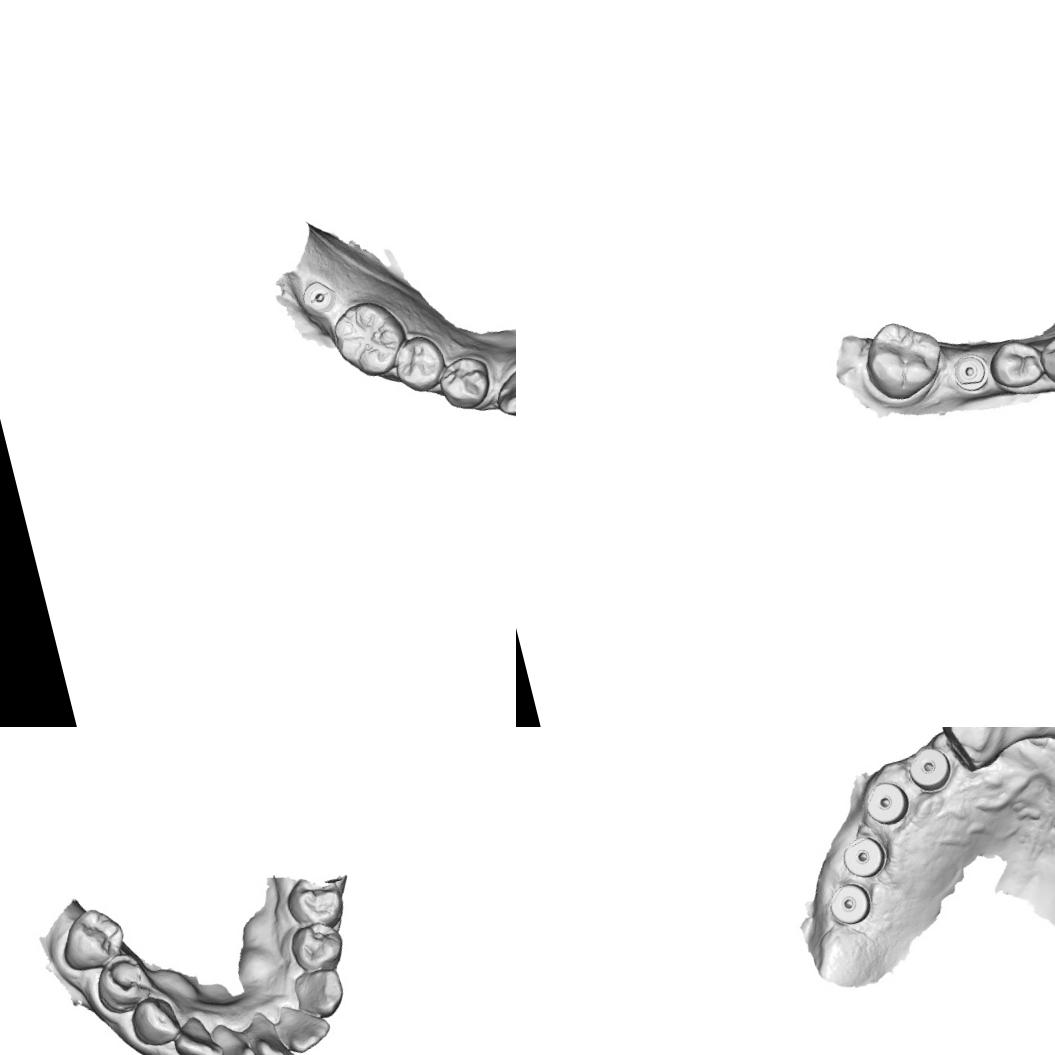canine: (937, 727, 1020, 777), (287, 962, 352, 1022), (124, 992, 182, 1050), (487, 366, 516, 422)
implant: (822, 873, 877, 930), (860, 775, 910, 824), (904, 742, 951, 789), (947, 349, 992, 395), (840, 833, 883, 878)
implant_minus: (298, 274, 340, 318)
incisor: (279, 999, 335, 1055), (244, 1010, 300, 1055), (166, 1013, 221, 1055), (994, 727, 1055, 755), (205, 1025, 258, 1055)
molar: (856, 310, 951, 406), (324, 290, 416, 386)
premolar: (57, 902, 129, 974), (386, 328, 452, 397), (90, 950, 154, 1020), (431, 350, 498, 416), (282, 871, 350, 934), (982, 331, 1048, 394), (287, 915, 348, 975), (1035, 326, 1055, 392)
